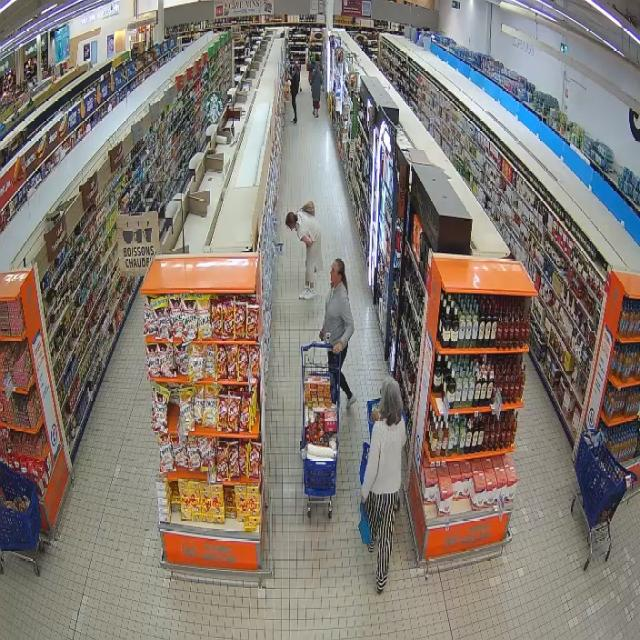bags: (359, 502, 372, 544), (300, 201, 315, 216)
hands: (371, 408, 379, 422), (333, 343, 342, 354), (320, 329, 324, 340), (361, 495, 365, 503)
person: (362, 377, 406, 593), (320, 259, 356, 407), (286, 211, 322, 299), (310, 62, 323, 118), (290, 63, 299, 123)
